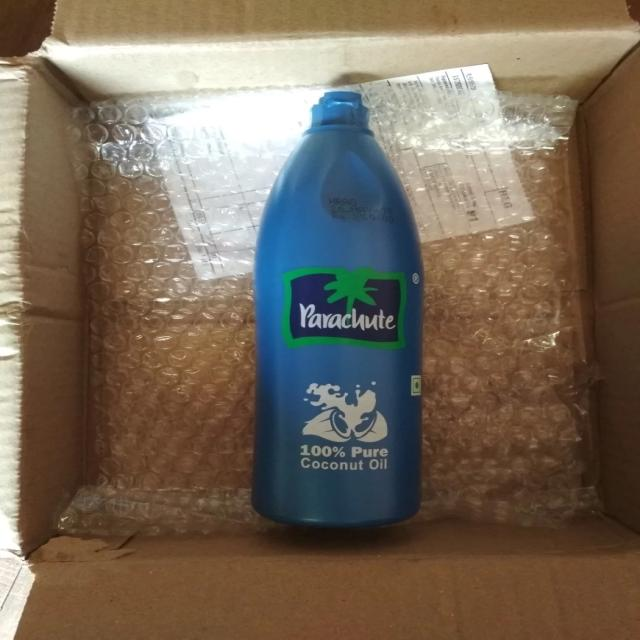parachute_oil: (236, 81, 437, 532)
